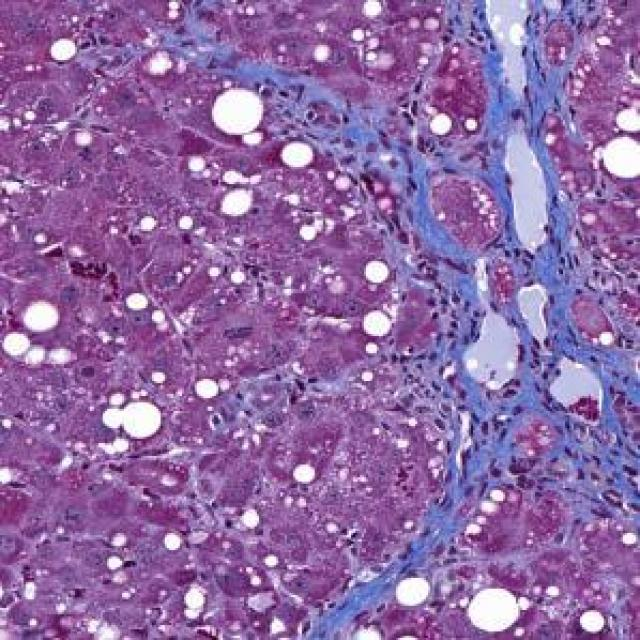fibrosis: (297, 82, 578, 232), (428, 315, 640, 501)
